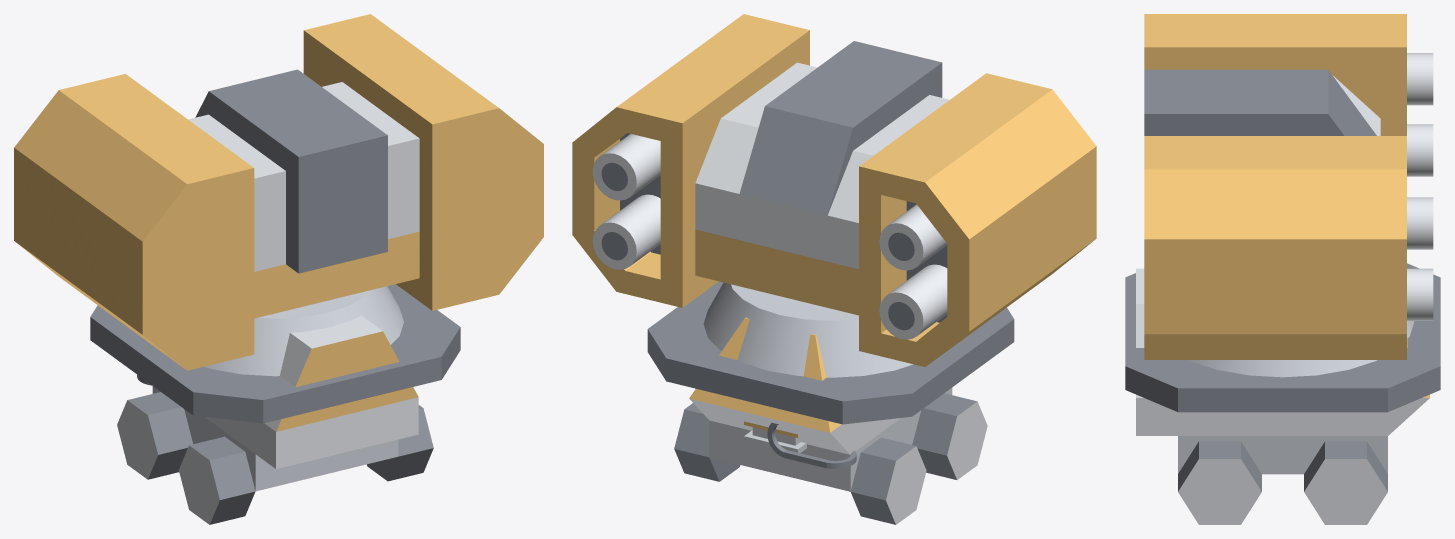
Rendered from unit_warden.glb.
3 views of the same model, side by side, from view 1: azimuth 30°, elevation 25°; view 2: azimuth 150°, elevation 25°; view 3: azimuth 270°, elevation 25° (orthographic). The views are drawn at different scales.
Parts seen in each view (by area): view 1: turret, rover, turret_double; view 2: turret, turret_double, rover, cable, machine_generator; view 3: turret, rover, turret_double.
Boxes of the visible parts, left/top/right/bottom form: turret: left=14, top=14, right=543, bottom=370; rover: left=117, top=315, right=433, bottom=524; turret_double: left=90, top=284, right=460, bottom=423; turret: left=572, top=14, right=1096, bottom=366; turret_double: left=647, top=281, right=1014, bottom=424; rover: left=674, top=317, right=987, bottom=524; cable: left=767, top=423, right=856, bottom=468; machine_generator: left=744, top=421, right=806, bottom=452; turret: left=1144, top=14, right=1433, bottom=359; rover: left=1136, top=268, right=1429, bottom=524; turret_double: left=1125, top=263, right=1440, bottom=412.
Bounding box in the file's own units: 1.34 × 1.18 × 0.8901.
